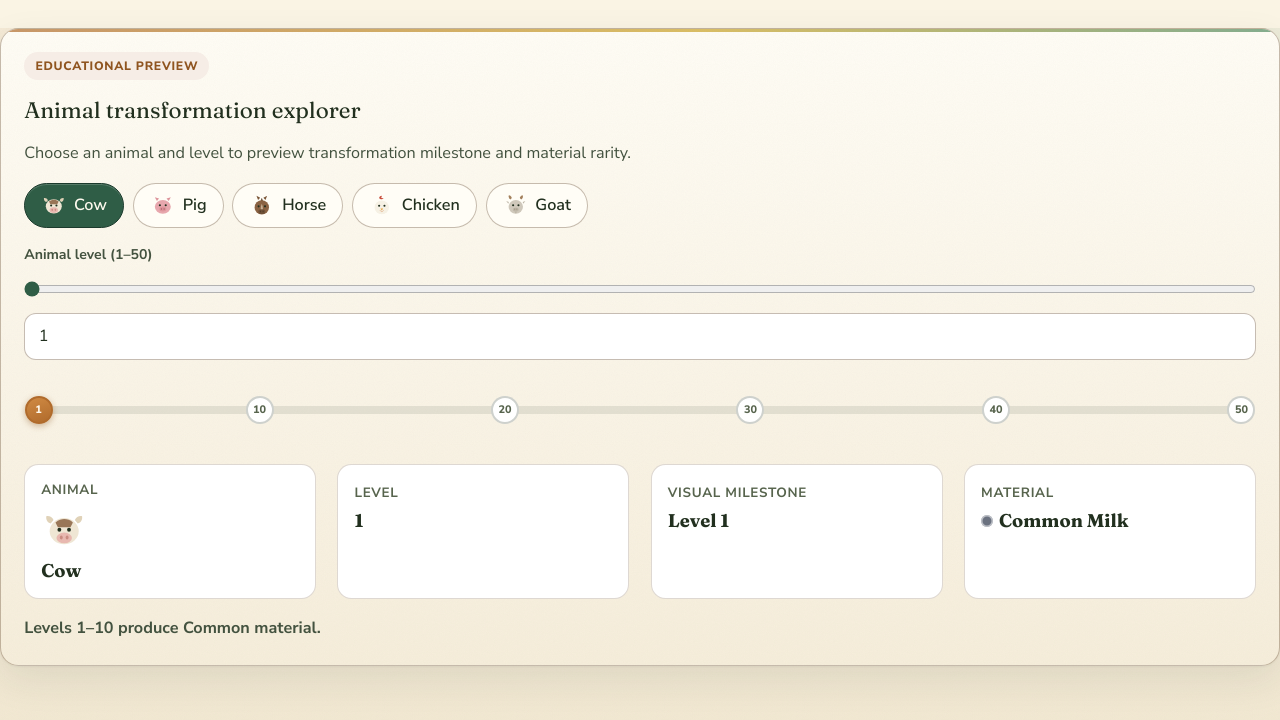
Scenario: animal transformation explorer › keeps the honest 1% Divine framing at level 50
Replace the text in the number field named "animal level number" with "50" at (640, 337), box [24, 313, 1256, 360]
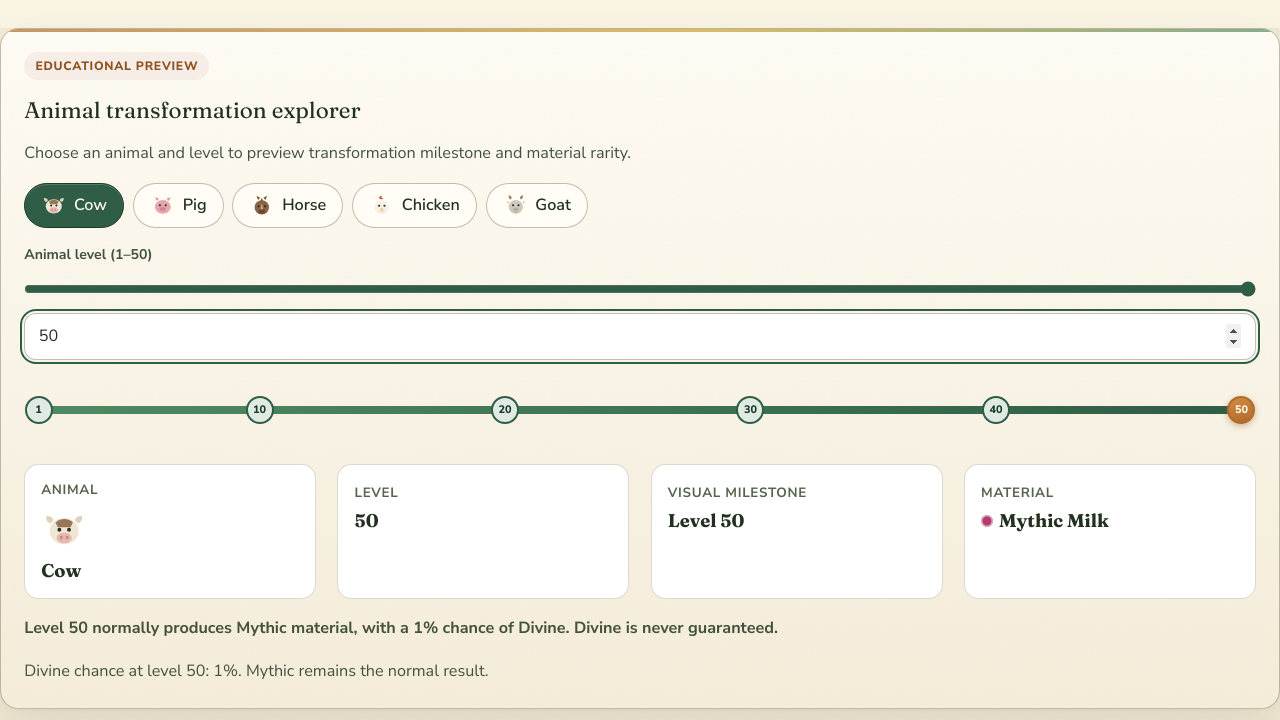
Expected: the text "Divine chance at level 50: 1%" is shown, [24, 660, 489, 682]
